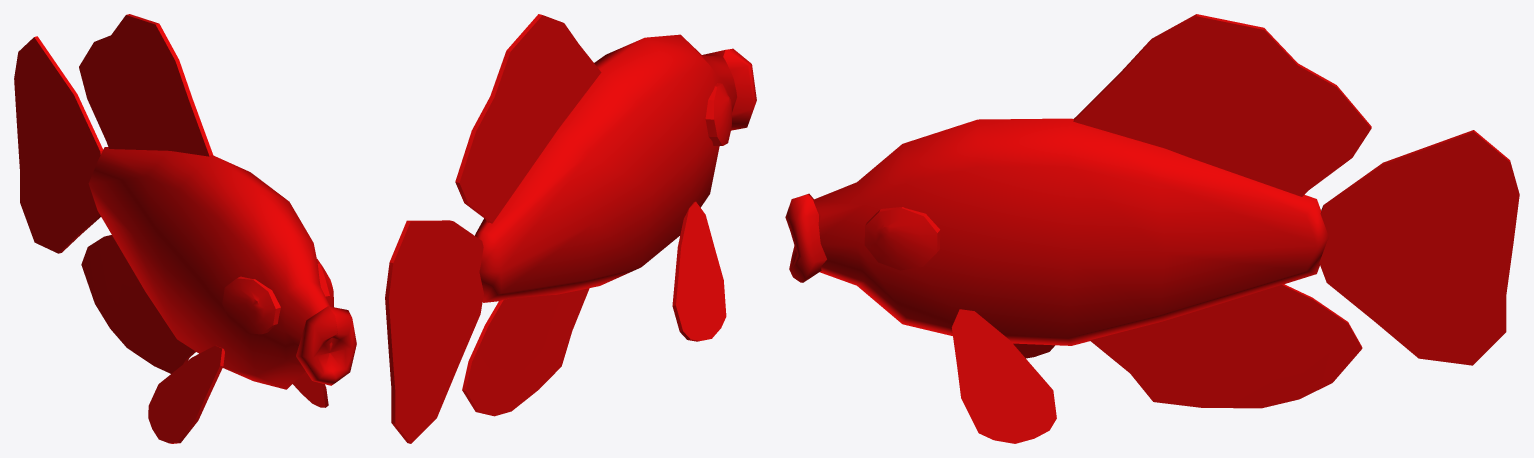
The picture shows the model from 3 angles, left to right: view 1: azimuth 30°, elevation 25°; view 2: azimuth 150°, elevation 25°; view 3: azimuth 270°, elevation 25°; orthographic projection. The views are drawn at different scales.
Parts seen in each view (by area): view 1: Fish_Killifish; view 2: Fish_Killifish; view 3: Fish_Killifish.
Boxes of the visible parts, x1=… form: Fish_Killifish: x1=14, y1=14, x2=356, y2=443; Fish_Killifish: x1=385, y1=14, x2=756, y2=443; Fish_Killifish: x1=785, y1=14, x2=1519, y2=443.
Bounding box in the file's own units: 5.41 × 11.36 × 19.26.
